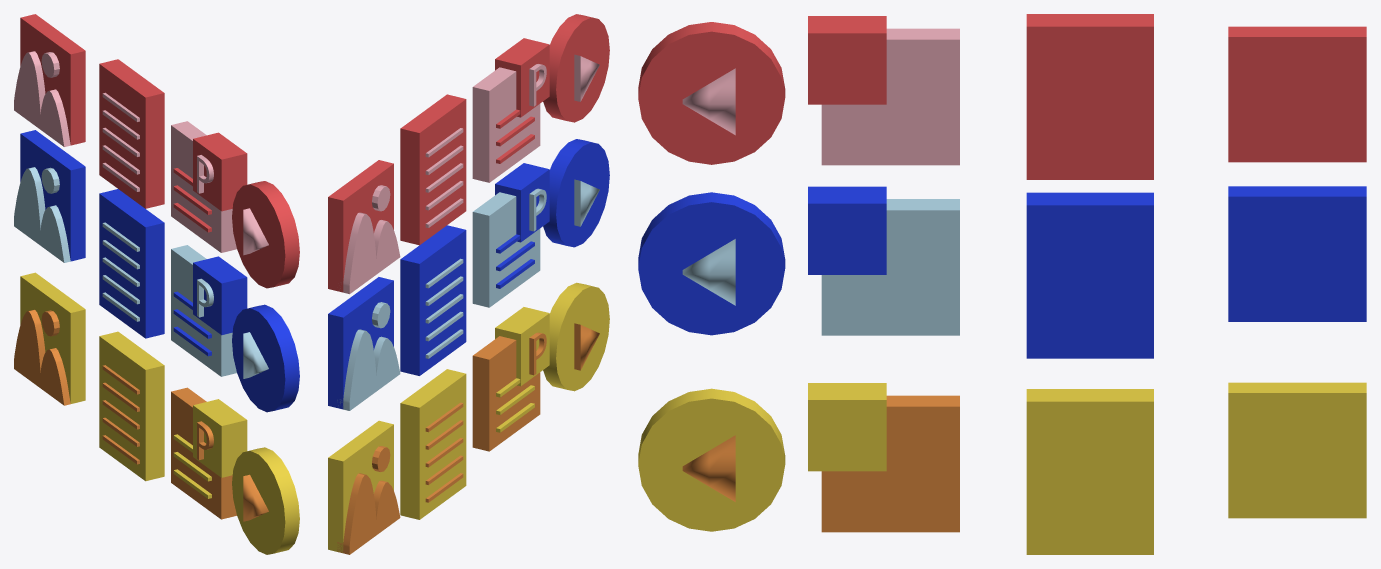
File: 0503icons.fbx
The picture shows the model from 3 angles, left to right: view 1: azimuth 30°, elevation 25°; view 2: azimuth 150°, elevation 25°; view 3: azimuth 270°, elevation 25°; orthographic projection. The views are drawn at different scales.
Parts seen in each view (by area): view 1: pCube7, pCube7.001, pCube7.002, pDisc2.001, pDisc2, pDisc2.002, pCube6.001, pCube6.002, pCube6, pCube8.002, pCube8, pCube8.001 (+15 smaller); view 2: pCube7, pCube7.002, pCube7.001, pCube8.002, pCube8, pCube8.001, pDisc2, pDisc2.001, pDisc2.002, pCube6.001, pCube6, pCube6.002 (+15 smaller); view 3: pCube7.001, pCube7, pCube7.002, pCube6, pCube6.002, pCube6.001, pDisc2.001, pDisc2.002, pDisc2, pCube8.002, pCube8, pCube8.001 (+6 smaller).
Boxes of the visible parts, bbox=[...] form: pCube7: bbox=[99, 59, 164, 208]; pCube7.001: bbox=[99, 189, 164, 338]; pCube7.002: bbox=[99, 331, 164, 481]; pDisc2.001: bbox=[232, 304, 299, 412]; pDisc2: bbox=[232, 181, 299, 288]; pDisc2.002: bbox=[232, 447, 299, 554]; pCube6.001: bbox=[20, 130, 85, 261]; pCube6.002: bbox=[20, 272, 85, 403]; pCube6: bbox=[20, 14, 85, 145]; pCube8.002: bbox=[171, 387, 236, 519]; pCube8: bbox=[171, 121, 236, 252]; pCube8.001: bbox=[171, 245, 236, 376]; pCube7: bbox=[400, 94, 466, 245]; pCube7.002: bbox=[400, 369, 466, 519]; pCube7.001: bbox=[400, 225, 466, 375]; pCube8.002: bbox=[472, 336, 540, 451]; pCube8: bbox=[472, 67, 540, 182]; pCube8.001: bbox=[472, 192, 540, 307]; pDisc2: bbox=[543, 14, 609, 122]; pDisc2.001: bbox=[543, 139, 609, 247]; pDisc2.002: bbox=[543, 282, 609, 391]; pCube6.001: bbox=[328, 277, 393, 409]; pCube6: bbox=[328, 160, 393, 292]; pCube6.002: bbox=[328, 420, 393, 552]; pCube7.001: bbox=[1026, 192, 1153, 358]; pCube7: bbox=[1026, 14, 1153, 179]; pCube7.002: bbox=[1026, 389, 1153, 554]; pCube6: bbox=[1228, 26, 1366, 162]; pCube6.002: bbox=[1228, 382, 1366, 518]; pCube6.001: bbox=[1228, 186, 1366, 321]; pDisc2.001: bbox=[638, 192, 785, 335]; pDisc2.002: bbox=[638, 388, 785, 531]; pDisc2: bbox=[638, 22, 785, 164]; pCube8.002: bbox=[821, 395, 959, 532]; pCube8: bbox=[821, 28, 959, 165]; pCube8.001: bbox=[821, 199, 959, 335].
Bounding box in the file's own units: 9.06 × 110 × 137.
